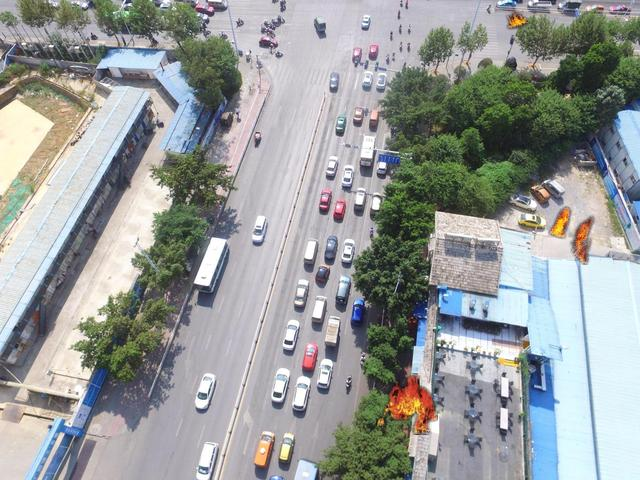fire: (377, 374, 436, 433), (549, 205, 595, 263), (505, 8, 528, 30)
